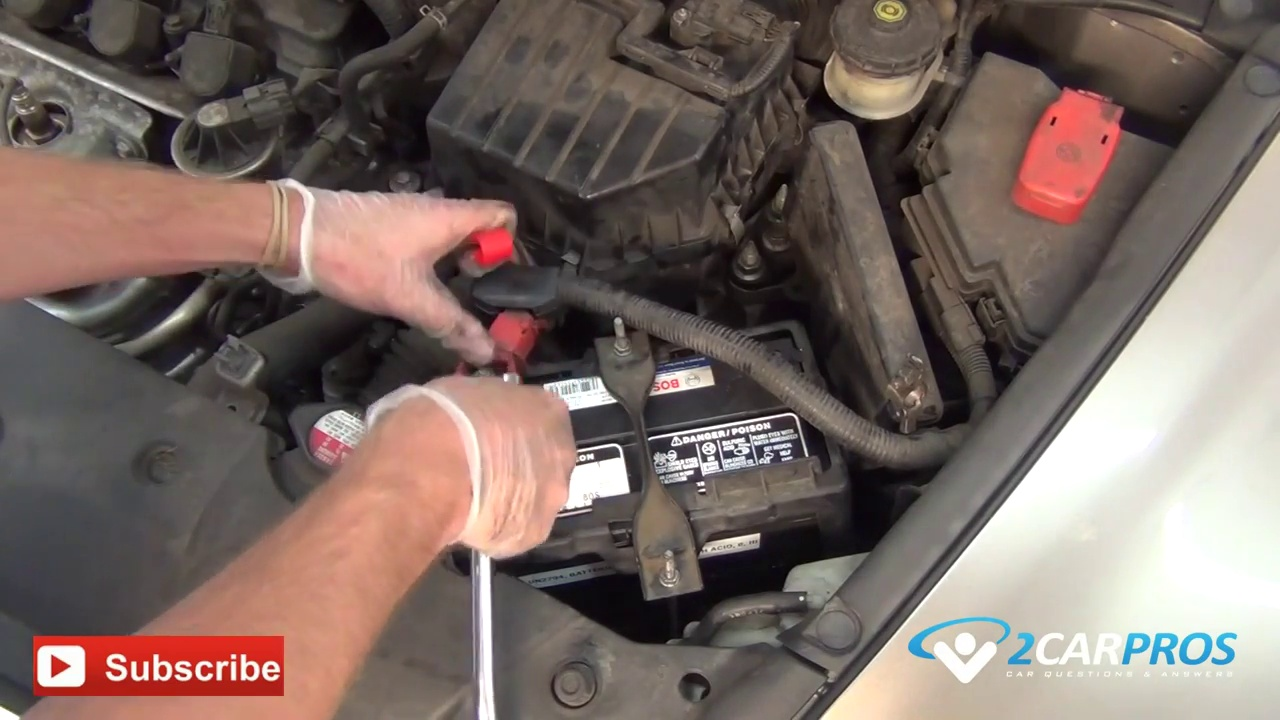battery: (471, 304, 825, 532)
pos_touched: (424, 198, 576, 479)
